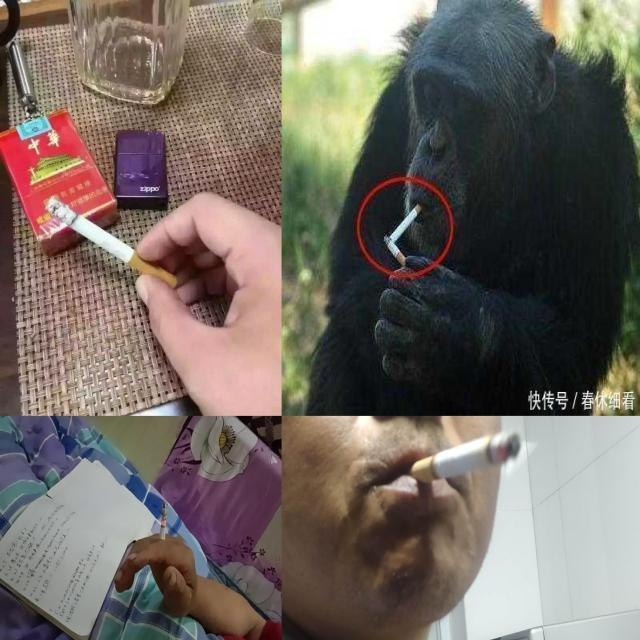rokok: (44, 195, 180, 293), (410, 429, 522, 483), (386, 197, 422, 239), (380, 238, 408, 266), (157, 502, 167, 550)
